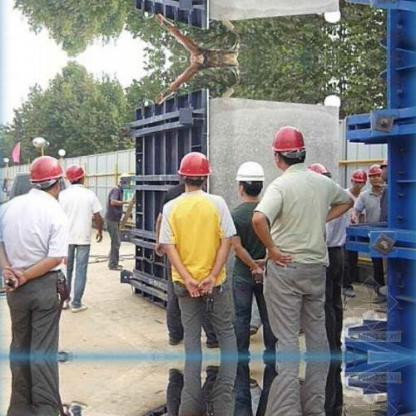helmet: (173, 151, 214, 181), (268, 124, 306, 153), (28, 154, 63, 182), (232, 161, 269, 184), (65, 161, 88, 181), (348, 168, 367, 186), (307, 163, 329, 178), (365, 160, 383, 178), (380, 154, 391, 172)
